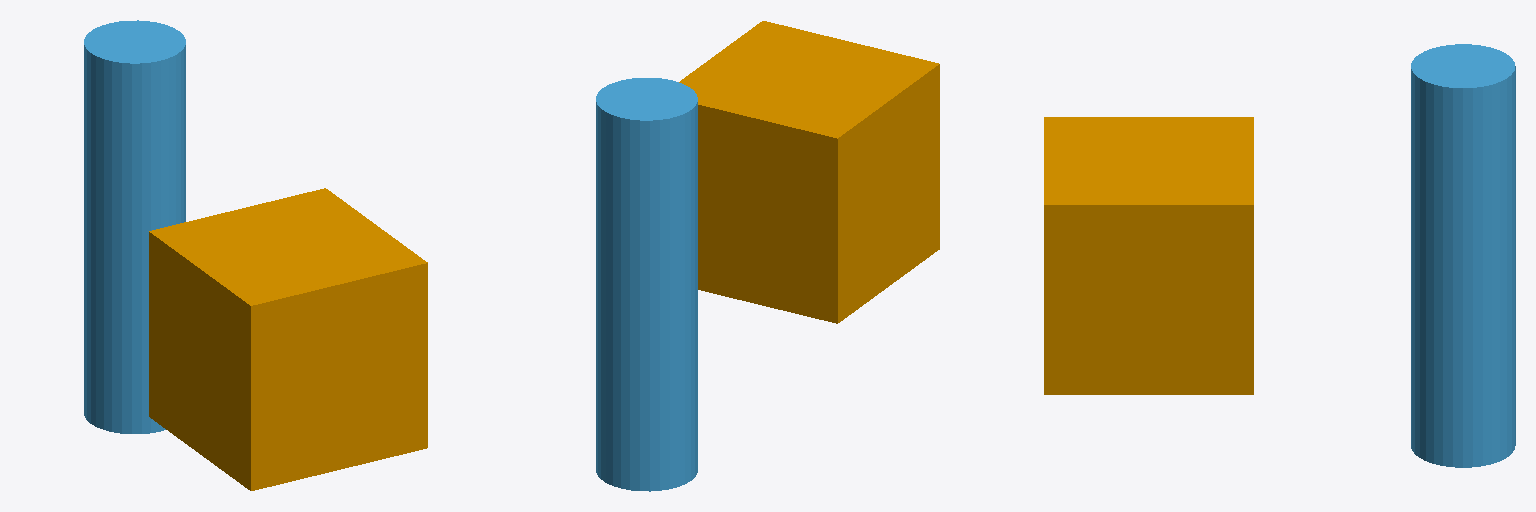
robot.urdf — simple_robot_arm:
<?xml version="1.0"?>
<robot name="simple_robot_arm">

    <!-- Base Link -->
    <link name="base_link">
        <inertial>
            <origin xyz="0 0 0" rpy="0 0 0"/>
            <mass value="1.0"/>
            <inertia ixx="0.1" ixy="0.0" ixz="0.0" iyy="0.1" iyz="0.0" izz="0.1"/>
        </inertial>
        <visual>
            <origin xyz="0 0 0" rpy="0 0 0"/>
            <geometry>
                <box size="0.2 0.2 0.2"/>
            </geometry>
            <material name="blue"/>
        </visual>
        <collision>
            <origin xyz="0 0 0" rpy="0 0 0"/>
            <geometry>
                <box size="0.2 0.2 0.2"/>
            </geometry>
        </collision>
    </link>

    <!-- Forearm Link -->
    <link name="forearm_link">
        <inertial>
            <origin xyz="0 0 0" rpy="0 0 0"/>
            <mass value="0.5"/>
            <inertia ixx="0.05" ixy="0.0" ixz="0.0" iyy="0.05" iyz="0.0" izz="0.05"/>
        </inertial>
        <visual>
            <origin xyz="0 0.2 0" rpy="0 0 0"/>
            <geometry>
                <cylinder radius="0.05" length="0.4"/>
            </geometry>
            <material name="green"/>
        </visual>
        <collision>
            <origin xyz="0 0.2 0" rpy="0 0 0"/>
            <geometry>
                <cylinder radius="0.05" length="0.4"/>
            </geometry>
        </collision>
    </link>

    <!-- Teapot Link -->
    <link name="teapot_link">
        <inertial>
            <origin xyz="0 0 0" rpy="0 0 0"/>
            <mass value="0.5"/>
            <inertia ixx="0.05" ixy="0.0" ixz="0.0" iyy="0.05" iyz="0.0" izz="0.05"/>
        </inertial>
        <visual>
            <origin xyz="0 0.2 0" rpy="0 0 0"/>
            <geometry>
                <mesh filename="teapot.stl"/>
            </geometry>
            <material name="red"/>
        </visual>
        <collision>
            <origin xyz="0 0.2 0" rpy="0 0 0"/>
            <geometry>
                <mesh filename="teapot.stl"/>
            </geometry>
        </collision>
    </link>

    <!-- Revolute Joint -->
    <joint name="shoulder_joint" type="revolute">
        <parent link="base_link"/>
        <child link="forearm_link"/>
        <origin xyz="0 0.1 0" rpy="0 0 0"/>
        <axis xyz="0 0 1"/>
        <limit effort="10.0" lower="-1.57" upper="1.57" velocity="1.0"/>
        <dynamics damping="0.1" friction="0.1"/>
    </joint>

    <!-- Fixed Joint -->
    <joint name="forearm_teapot_joint" type="fixed">
        <parent link="forearm_link"/>
        <child link="teapot_link"/>
        <origin xyz="0 0.4 0" rpy="0 0 0"/>
    </joint>

</robot>

--- Facts derived from the render (not from the file) ---
The picture shows the robot from 3 angles, left to right: view 1: azimuth 30°, elevation 25°; view 2: azimuth 150°, elevation 25°; view 3: azimuth 270°, elevation 25°; orthographic projection.
Robot: simple_robot_arm — 3 links, 2 joints (1 revolute, 1 fixed); root link base_link; default pose: all joints at 0.
Visible links, largest first — view 1: base_link, forearm_link; view 2: base_link, forearm_link; view 3: base_link, forearm_link.
Boxes of the visible links, x1=… form: base_link: x1=149, y1=188, x2=427, y2=490; forearm_link: x1=84, y1=20, x2=185, y2=433; base_link: x1=679, y1=21, x2=939, y2=323; forearm_link: x1=596, y1=78, x2=697, y2=491; base_link: x1=1044, y1=117, x2=1253, y2=394; forearm_link: x1=1411, y1=44, x2=1515, y2=467.
Bounding box of the posed robot: 0.2 × 0.45 × 0.4 m (x, y, z).
0 mesh visuals loaded from 1 distinct referenced files (none loaded); not drawn: 1 (reference not matched to a file when rendering).